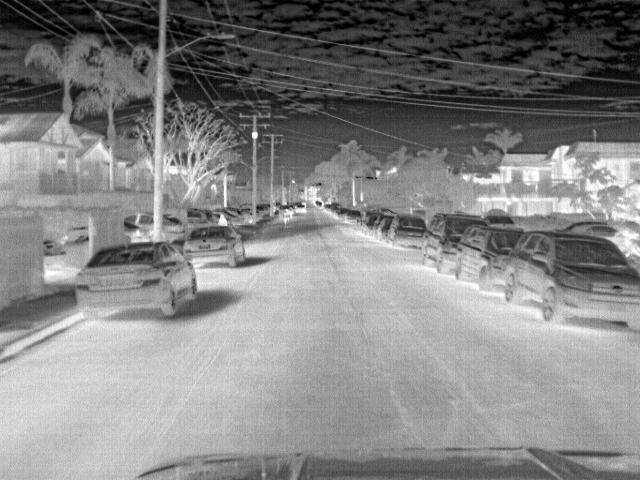car: (505, 229, 638, 332), (74, 242, 202, 320), (450, 224, 531, 294), (421, 212, 487, 276), (183, 223, 250, 270), (564, 221, 632, 252), (390, 214, 430, 248), (165, 212, 188, 242), (124, 211, 154, 232), (376, 218, 394, 244), (345, 209, 365, 226), (293, 202, 308, 214)
person: (217, 212, 229, 226)
